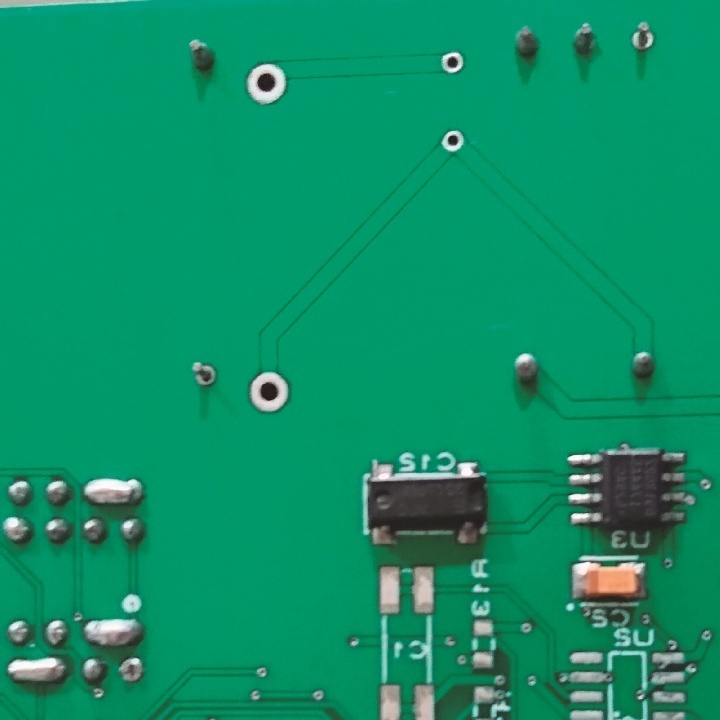F: (247, 369, 296, 416), (243, 62, 290, 106), (629, 20, 659, 55), (187, 358, 220, 389), (115, 655, 146, 683), (441, 49, 468, 78), (440, 127, 467, 153)
P: (81, 475, 147, 508), (82, 620, 150, 646), (7, 658, 70, 686)
